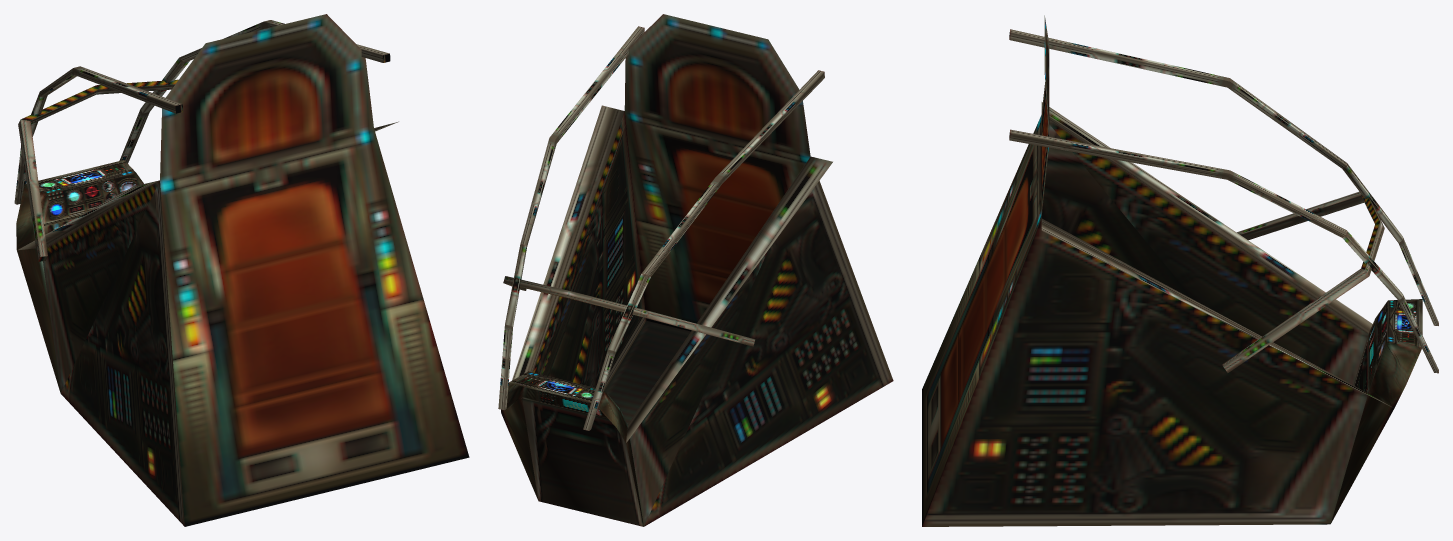
File: fig02pit.old.obj
3 views of the same model, side by side, from view 1: azimuth 30°, elevation 25°; view 2: azimuth 150°, elevation 25°; view 3: azimuth 270°, elevation 25° (orthographic). The views are drawn at different scales.
Parts seen in each view (by area): view 1: frm-bmerge3, frm-cube4, frm-cube2, frm-cube1; view 2: frm-bmerge3, frm-cube2, frm-cube1, frm-cube4; view 3: frm-bmerge3, frm-cube1, frm-cube2, frm-cube4.
Boxes of the visible parts, x1,y1,x2,y2 form: frm-bmerge3: (16, 14, 469, 526); frm-cube4: (18, 79, 178, 261); frm-cube2: (14, 66, 182, 204); frm-cube1: (119, 20, 390, 163); frm-bmerge3: (501, 14, 893, 526); frm-cube2: (583, 70, 824, 430); frm-cube1: (498, 26, 644, 410); frm-cube4: (503, 276, 755, 346); frm-bmerge3: (922, 15, 1422, 526); frm-cube1: (1009, 129, 1438, 373); frm-cube2: (1009, 29, 1438, 325); frm-cube4: (1222, 191, 1384, 372).
Size of the model in its own units: 22.25 by 34.05 by 35.27.
1 material, 1 textured.
